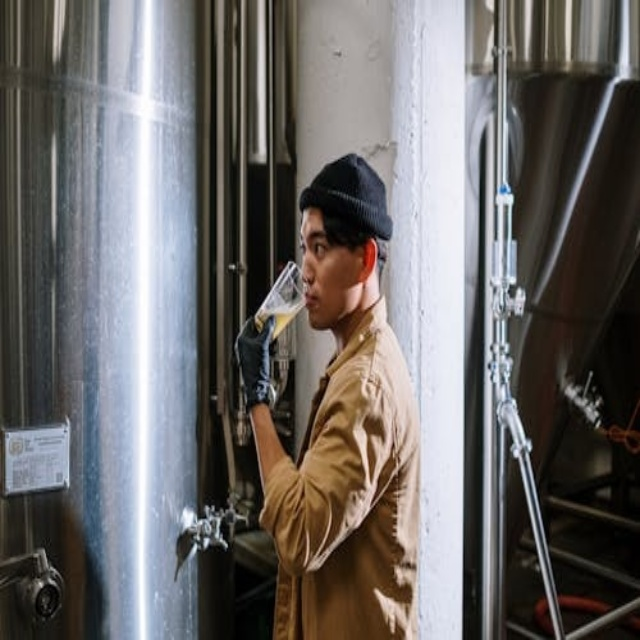Guantes: (234, 313, 278, 413)
Sin_gafas: (298, 225, 337, 263)
Sin_mascara: (301, 279, 333, 329)
